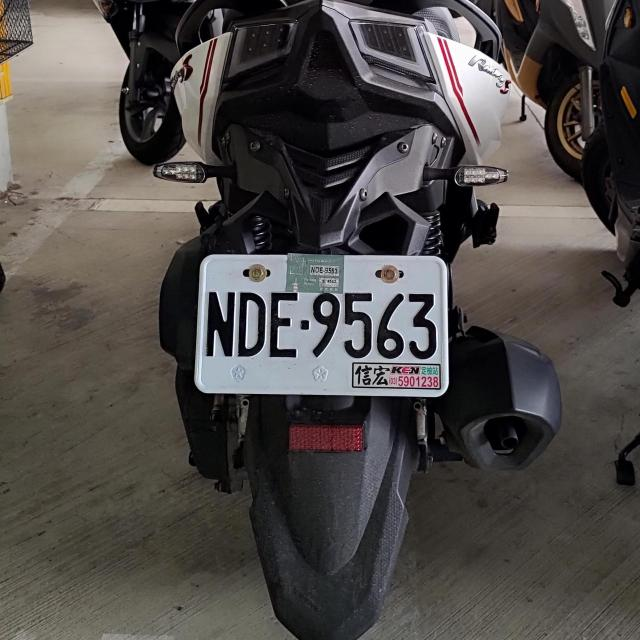W: (194, 252, 448, 394)
